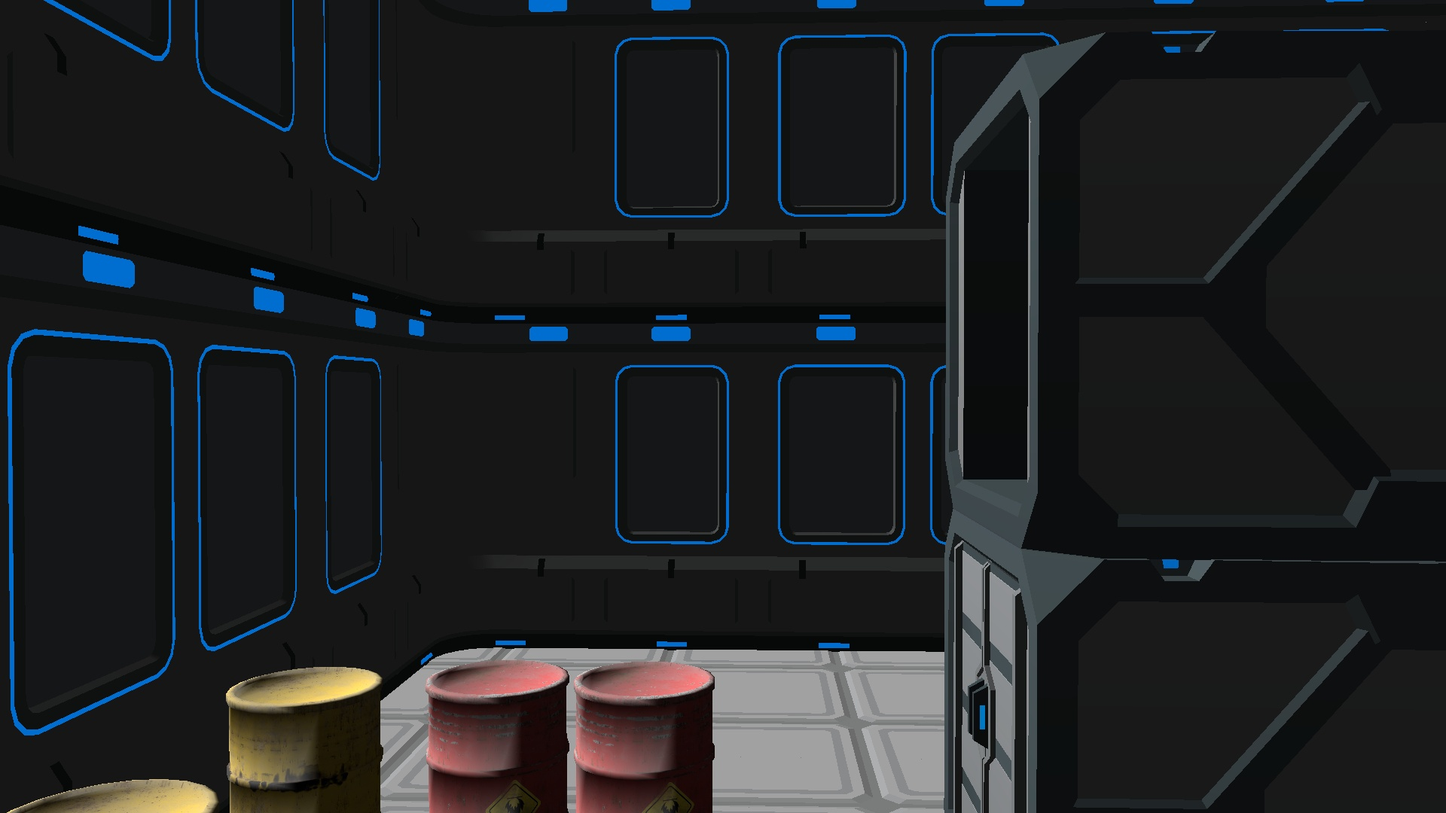toxic barrel: (226, 667, 383, 813), (425, 659, 569, 813), (574, 661, 714, 813), (7, 776, 217, 813)
